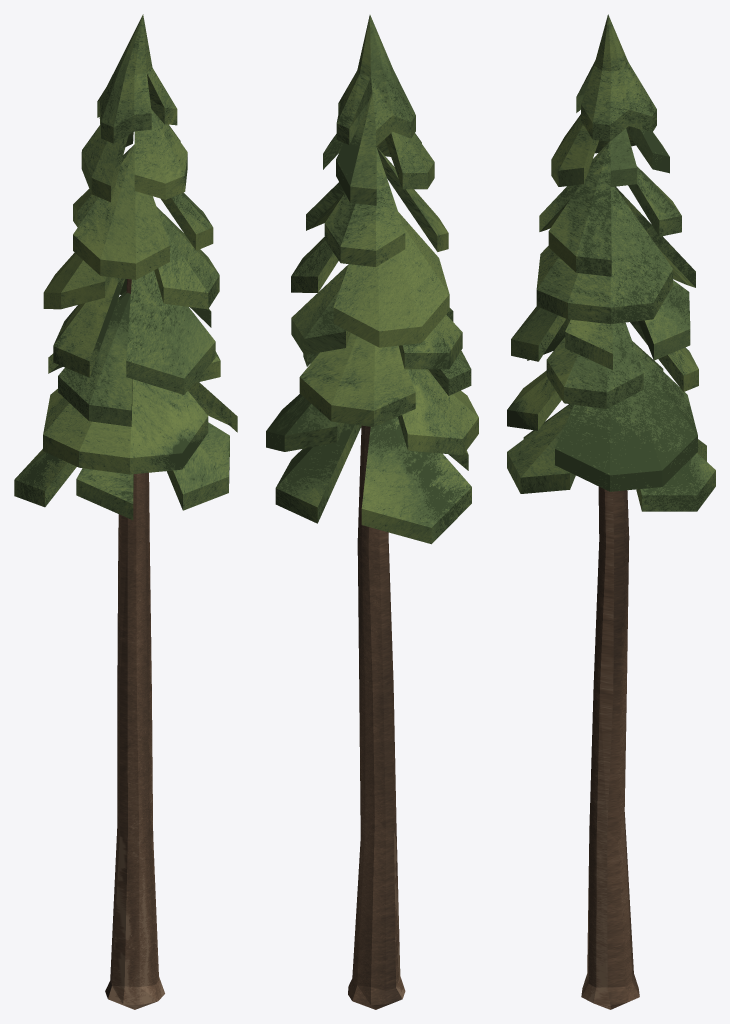
File: Tree04.fbx
The picture shows the model from 3 angles, left to right: view 1: azimuth 30°, elevation 25°; view 2: azimuth 150°, elevation 25°; view 3: azimuth 270°, elevation 25°; orthographic projection.
Visible parts, largest first — view 1: Tree04; view 2: Tree04; view 3: Tree04.
Part boxes in pixels (box(x1,y1,x2,y2)): Tree04: box(14, 14, 237, 1009); Tree04: box(266, 15, 478, 1009); Tree04: box(507, 14, 715, 1009).
Size of the model in its own units: 105 by 531 by 101.
